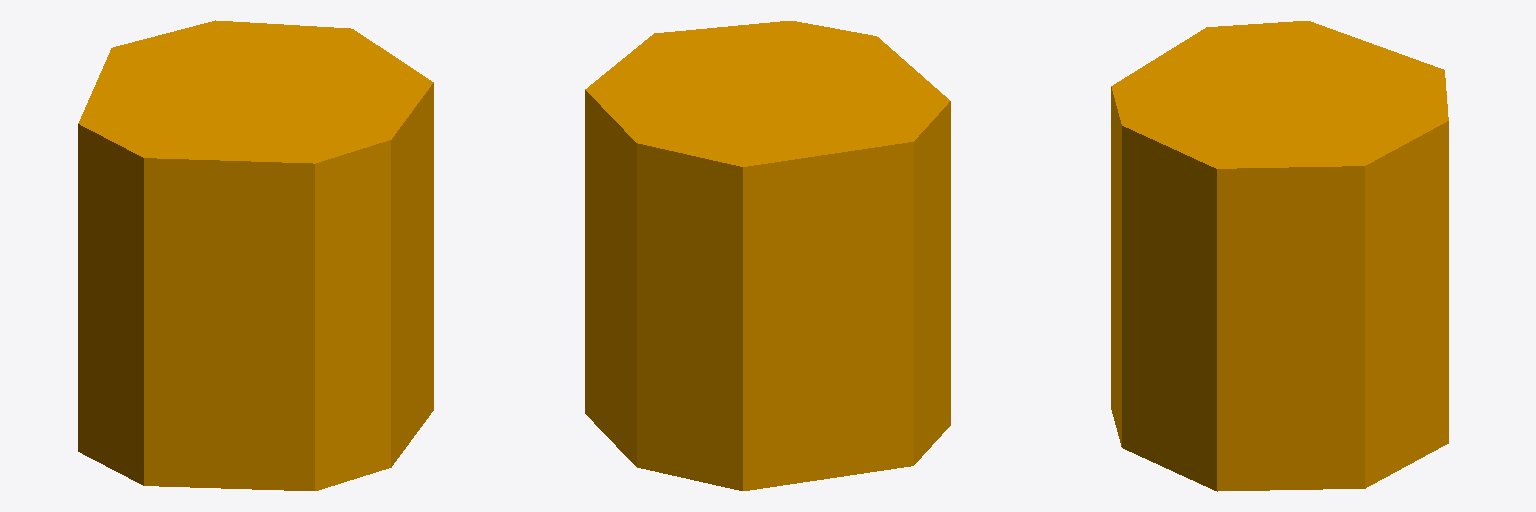
The robot description file, URDF, robot "object":
<?xml version="1.0"?>
<robot name="object">
  <link name="object">
    <visual>
      <origin xyz="0 0 0"/>
      <geometry>
        <mesh filename="meshes/generated/col_034.obj" scale="0.03 0.03 0.03"/>
      </geometry>
    </visual>
    <collision>
      <origin xyz="0 0 0"/>
      <geometry>
        <mesh filename="meshes/generated/col_034.obj" scale="0.03 0.03 0.03"/>
      </geometry>
    </collision>
    <inertial>
      <density value="1000.0"/>
    </inertial>
  </link>
</robot>

--- What the picture shows (computed from the rendered views, not written in the file) ---
Views: 3 orthographic renders of the robot side by side, from view 1: azimuth 30°, elevation 25°; view 2: azimuth 150°, elevation 25°; view 3: azimuth 270°, elevation 25°.
Model object with 1 links and 0 joints (none), rooted at object, posed all joints at 0.
Links seen in each view (by area): view 1: object; view 2: object; view 3: object.
Link boxes in pixels (box(x1,y1,x2,y2)): object: box(78, 20, 433, 490); object: box(585, 21, 950, 490); object: box(1111, 21, 1448, 491).
Size in the robot's own frame: 0.0592 by 0.0569 by 0.06 metres.
Meshes: 1 distinct files referenced, 1 mesh visuals loaded (1 OBJ).
